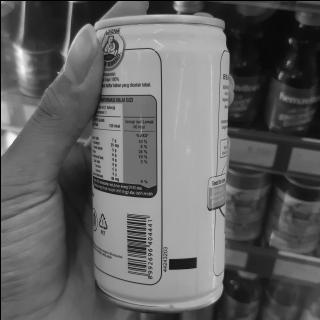alumunium_can: (72, 19, 242, 314)
